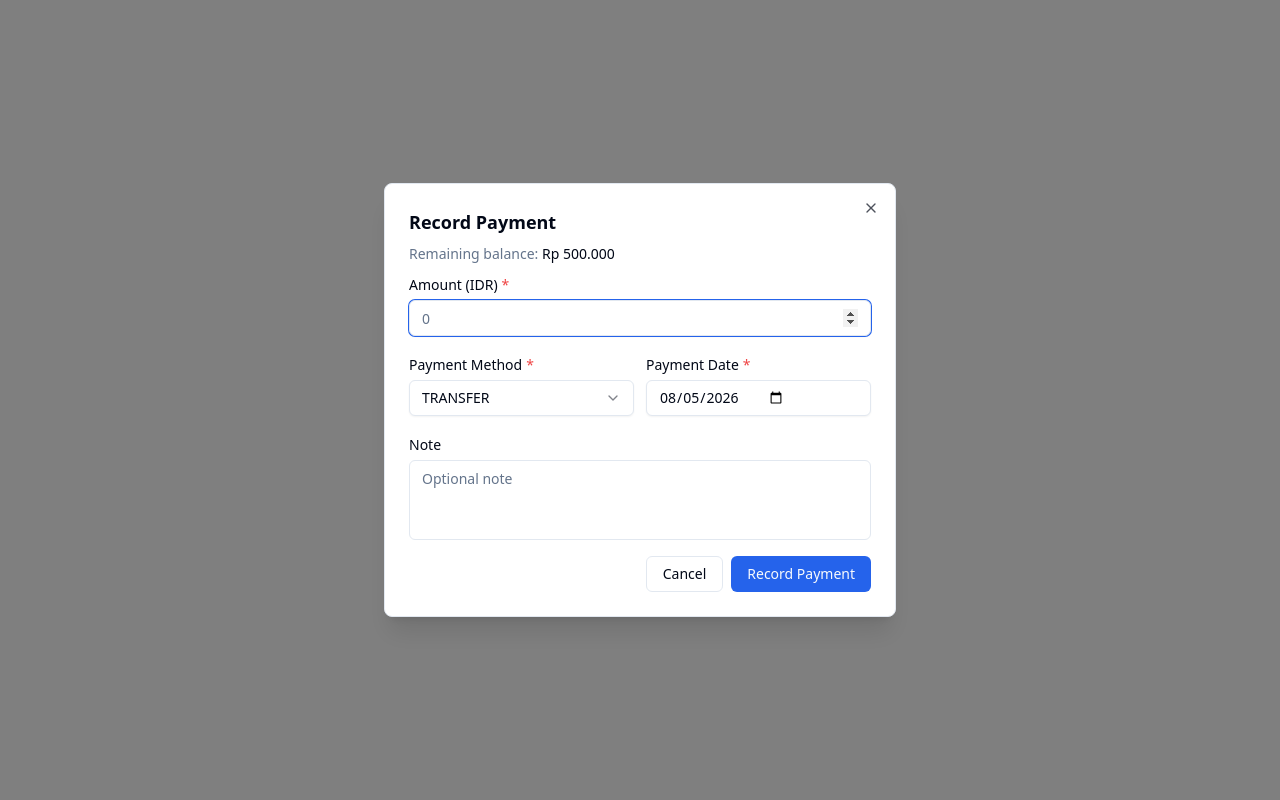
Scenario: RecordPaymentModal — applyApiErrors wiring › surfaces field error on amount field when server returns fieldErrors
The image size is (1280, 800).
Type "100000" into the number field with placeholder "0".
click(640, 318); type("100000")  # box [409, 300, 871, 336]
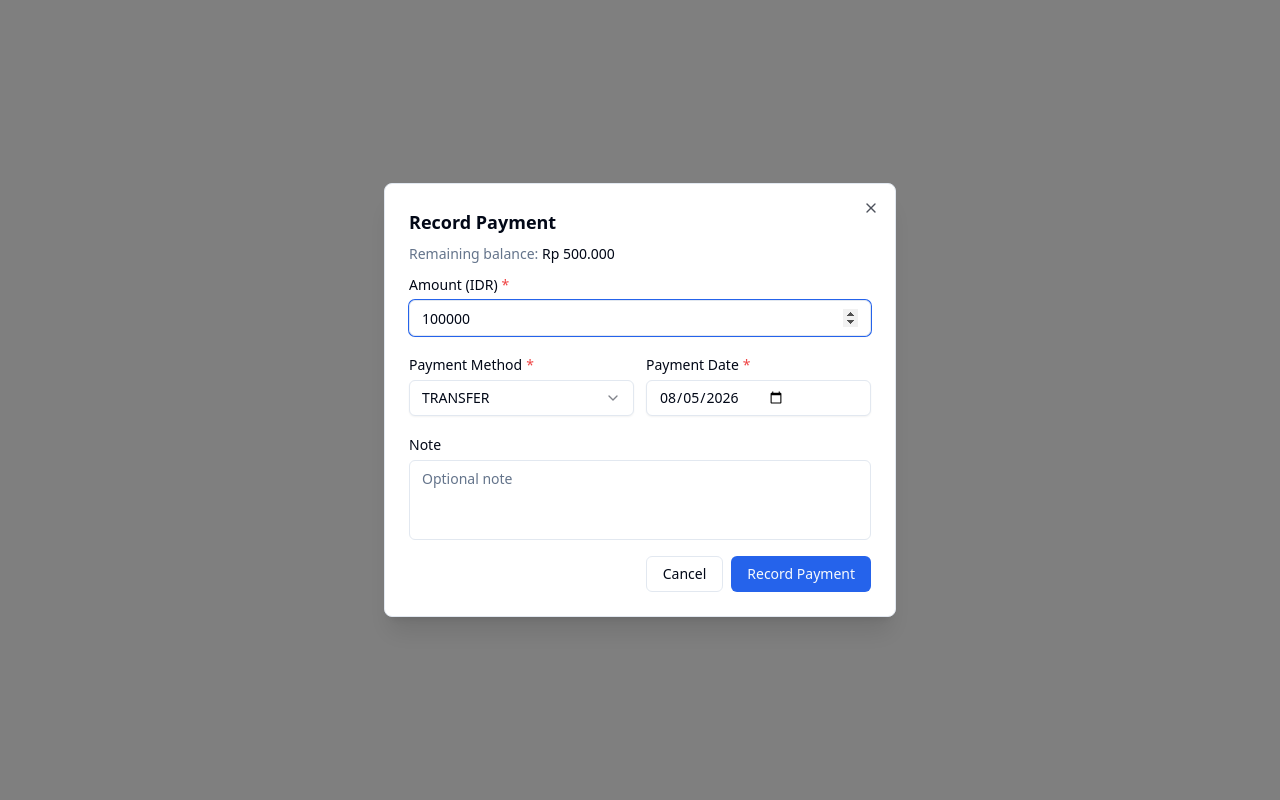
Click the button "Record Payment".
click(801, 574)  # box [731, 556, 871, 592]
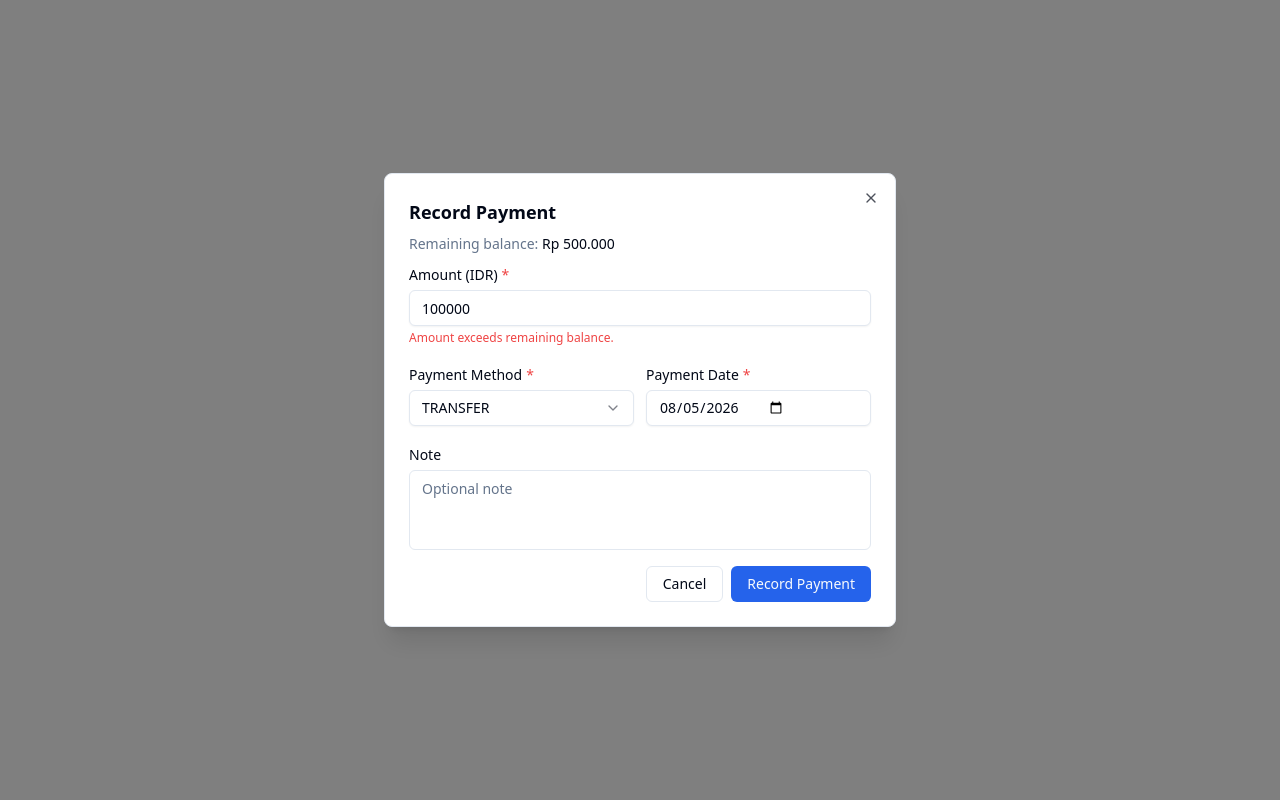
Expected: the text "Amount exceeds remaining balance." is shown, [409, 329, 614, 346]
